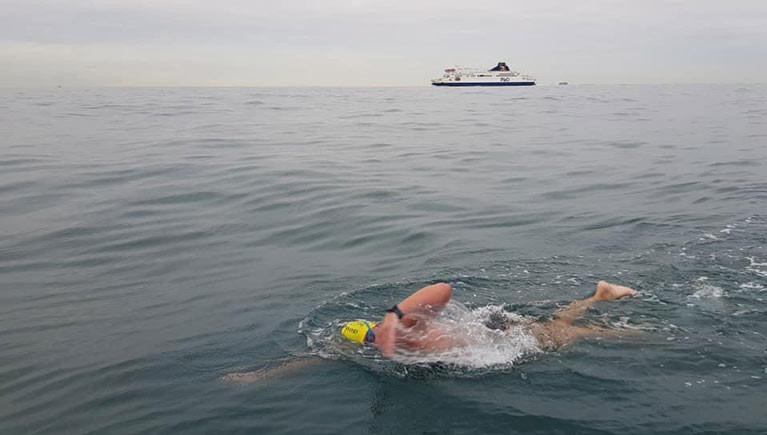human: (221, 270, 639, 384)
